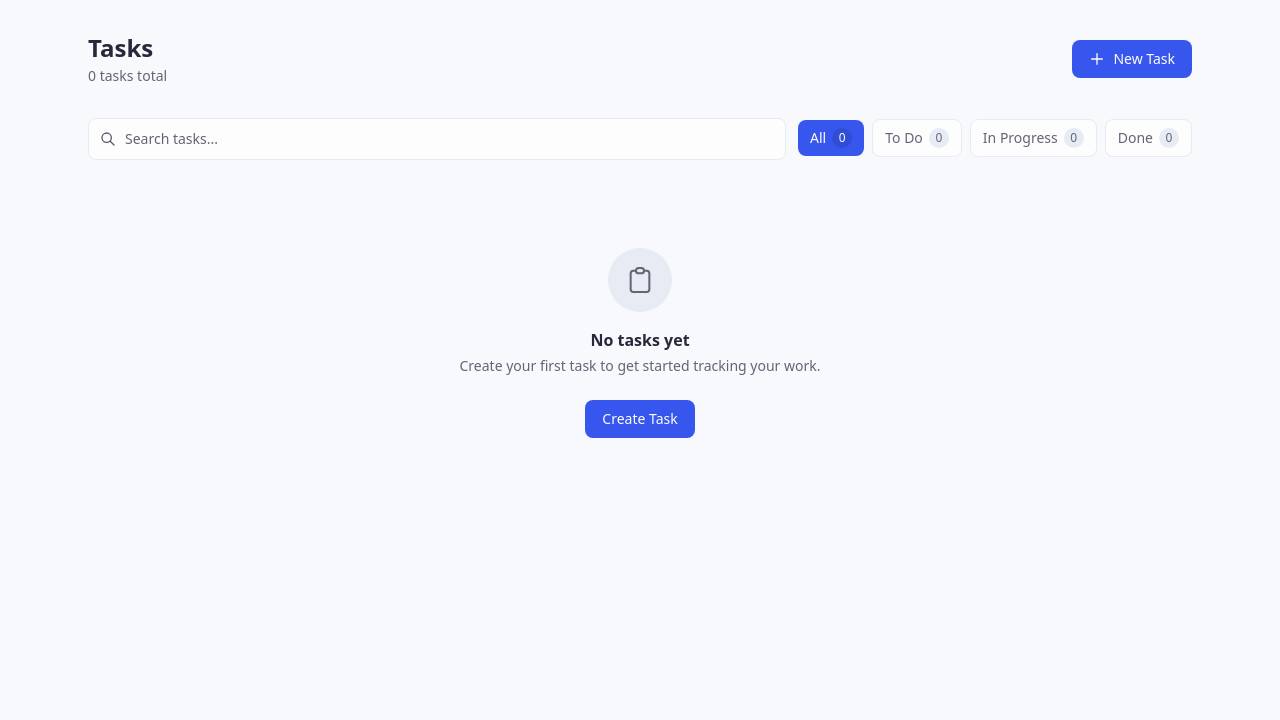
Test: Dashboard › opens create task modal when New Task is clicked
The width and height of the screenshot is (1280, 720).
Step 1. Click the button "New Task" → (1132, 59), box [1072,40,1192,78]
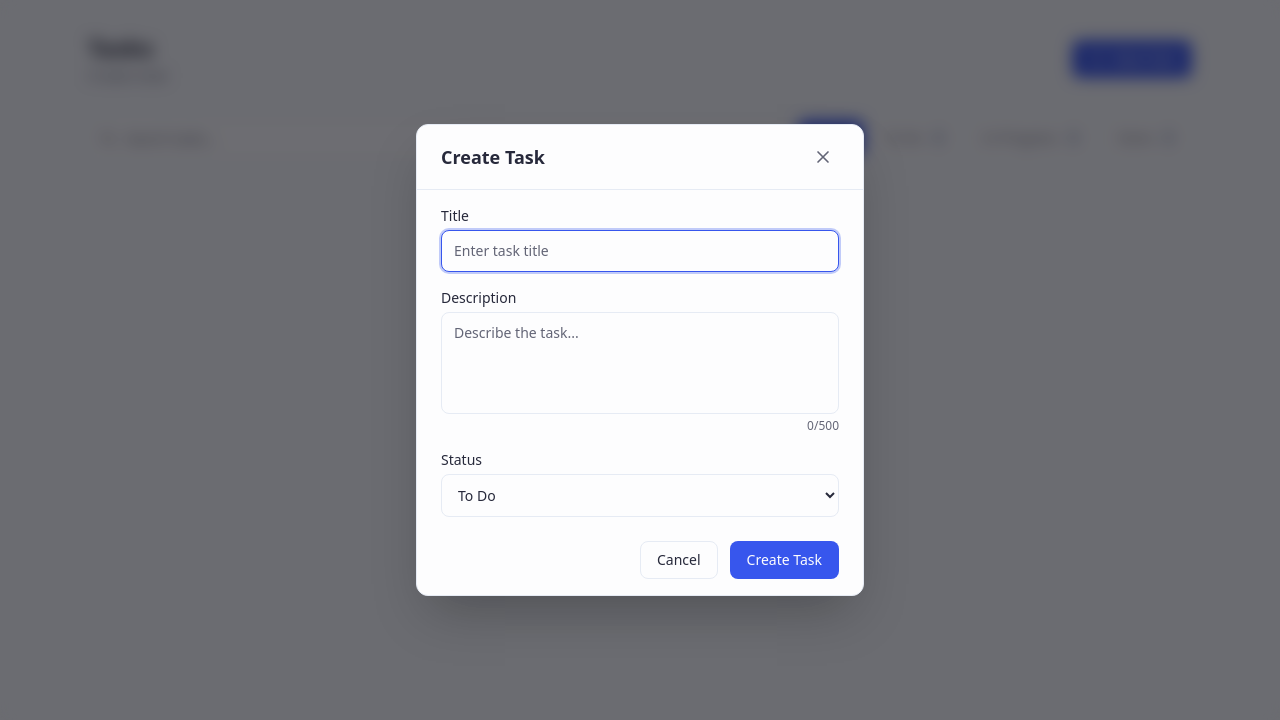
Result: the dialog is shown
Result: the heading "Create Task" is shown at [441,143,545,171]
